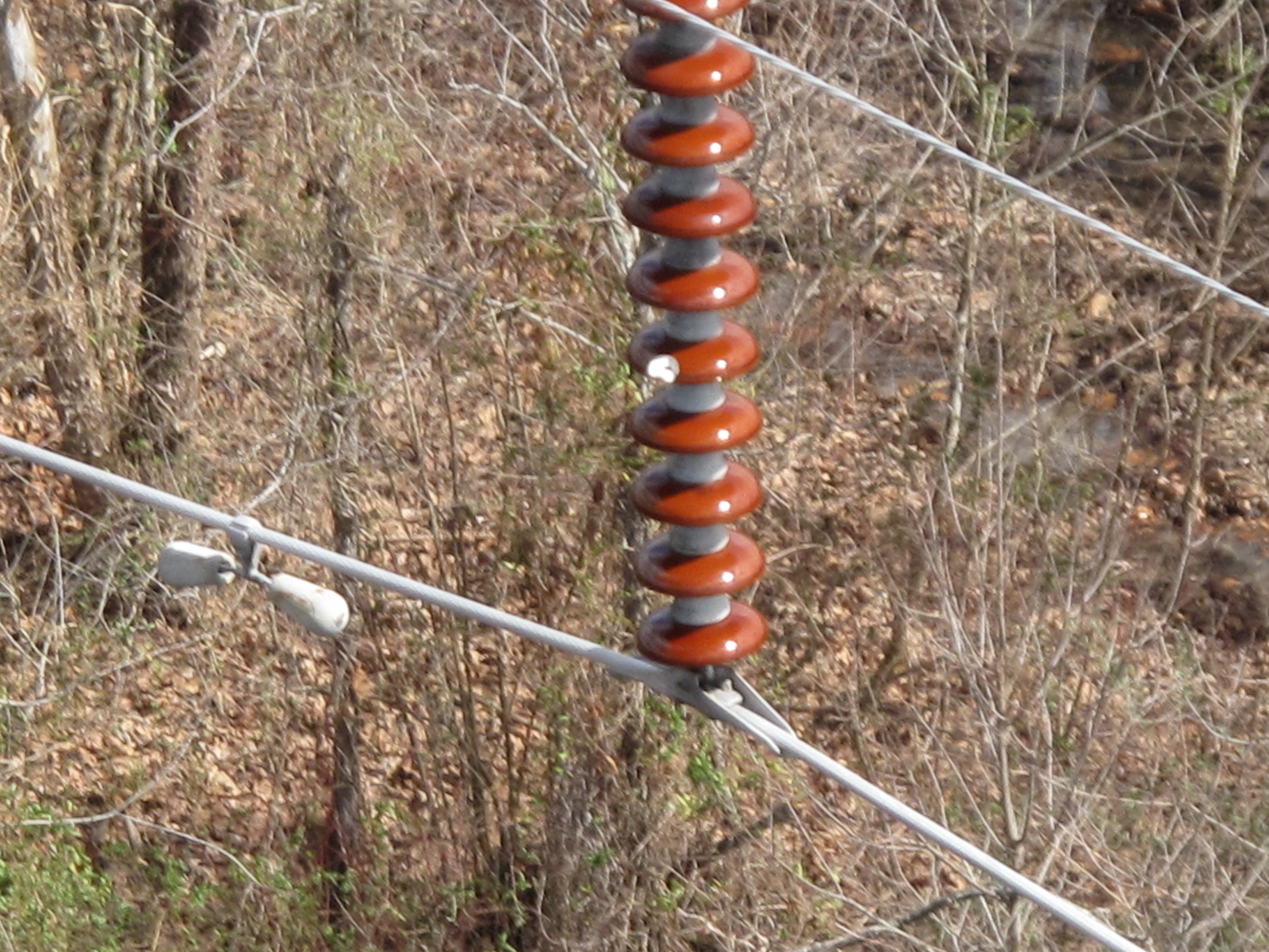damaged: (633, 344, 689, 393)
hammer: (155, 501, 355, 635)
insulator: (621, 0, 765, 669)
